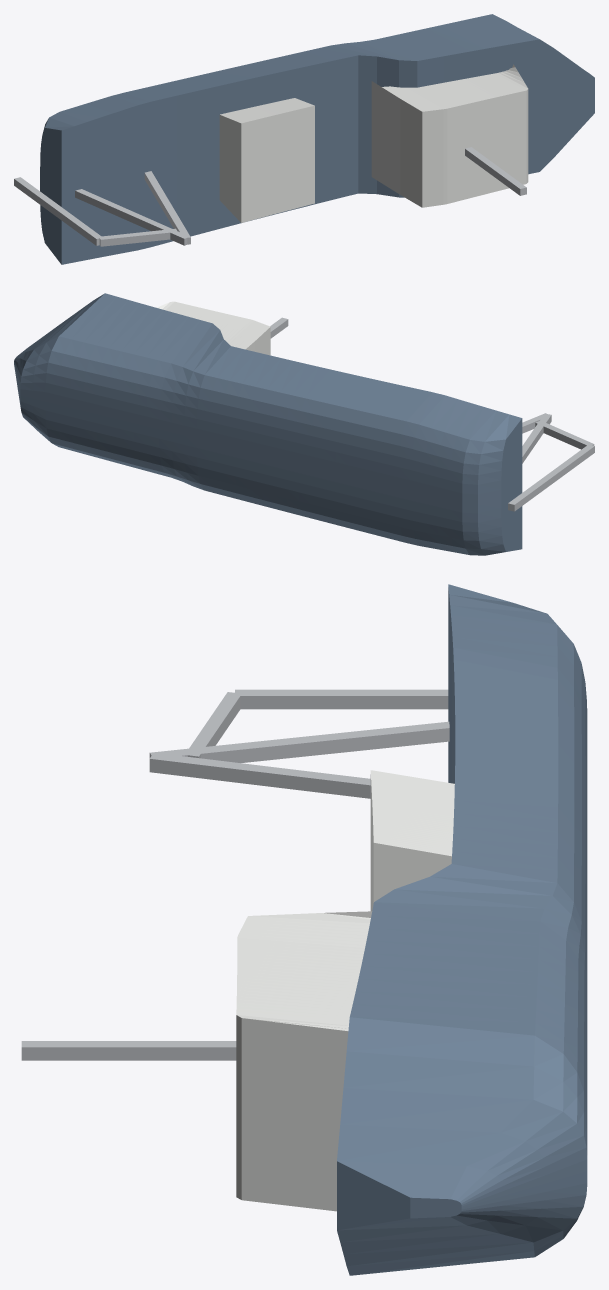
The model's file is loft-dive-support-highside.glb.
The picture shows the model from 3 angles, top to bottom: view 1: azimuth 30°, elevation 25°; view 2: azimuth 150°, elevation 25°; view 3: azimuth 270°, elevation 25°; orthographic projection. The views are drawn at different scales.
Parts seen in each view (by area): view 1: dive-support-loft-highside; view 2: dive-support-loft-highside; view 3: dive-support-loft-highside.
Boxes of the visible parts, left/top/right/bottom form: dive-support-loft-highside: left=14, top=14, right=594, bottom=264; dive-support-loft-highside: left=14, top=293, right=594, bottom=555; dive-support-loft-highside: left=21, top=584, right=587, bottom=1275.
Size of the model in its own units: 1.95 by 0.505 by 0.9125.
